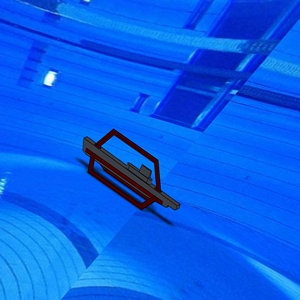submarine: (77, 125, 185, 222)
